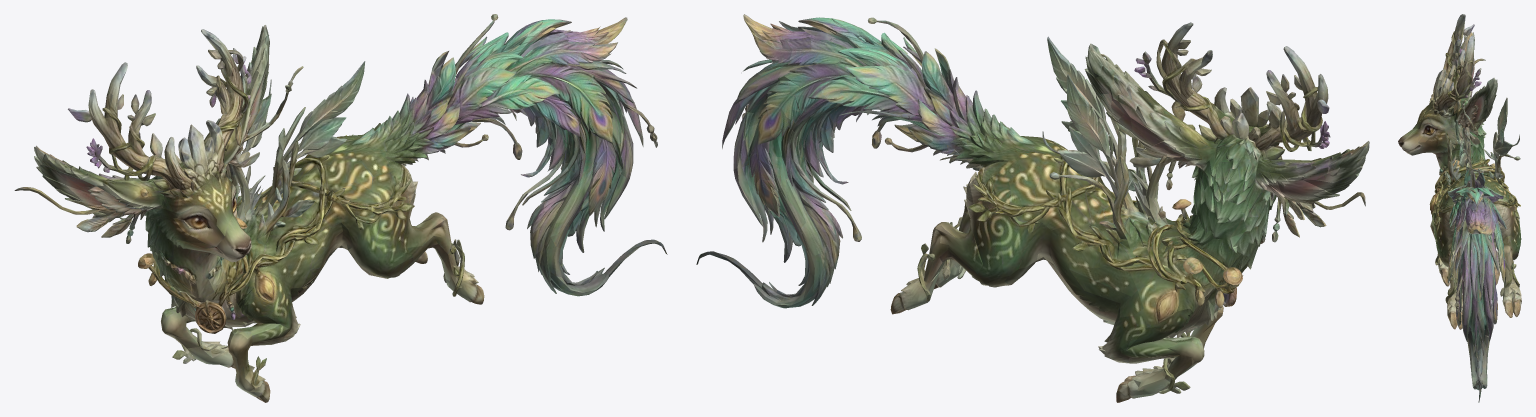
The picture shows the model from 3 angles, left to right: view 1: azimuth 30°, elevation 25°; view 2: azimuth 150°, elevation 25°; view 3: azimuth 270°, elevation 25°; orthographic projection. The views are drawn at different scales.
Visible parts, largest first — view 1: output_unwrapped; view 2: output_unwrapped; view 3: output_unwrapped.
Part boxes in pixels (x1,y1,x2,y2): output_unwrapped: [14, 14, 667, 402]; output_unwrapped: [696, 14, 1369, 402]; output_unwrapped: [1398, 14, 1521, 402].
Size of the model in its own units: 1.9 by 1.04 by 0.4923.
1 material, 1 textured.
